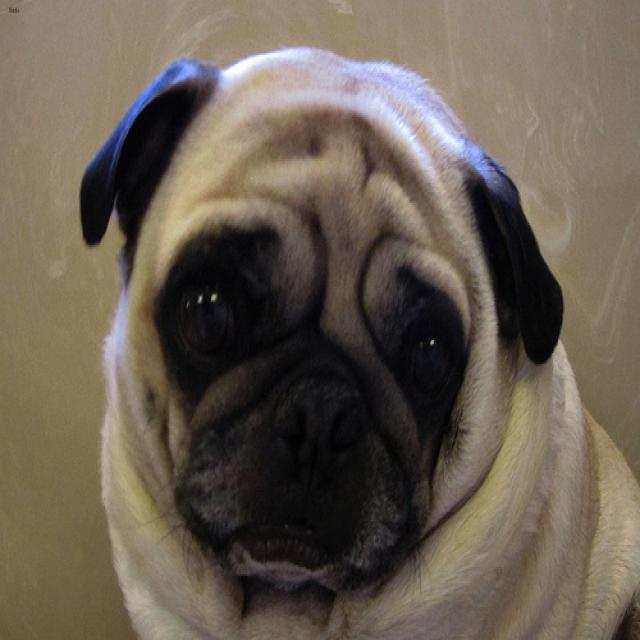dog-pug: (73, 44, 637, 636)
